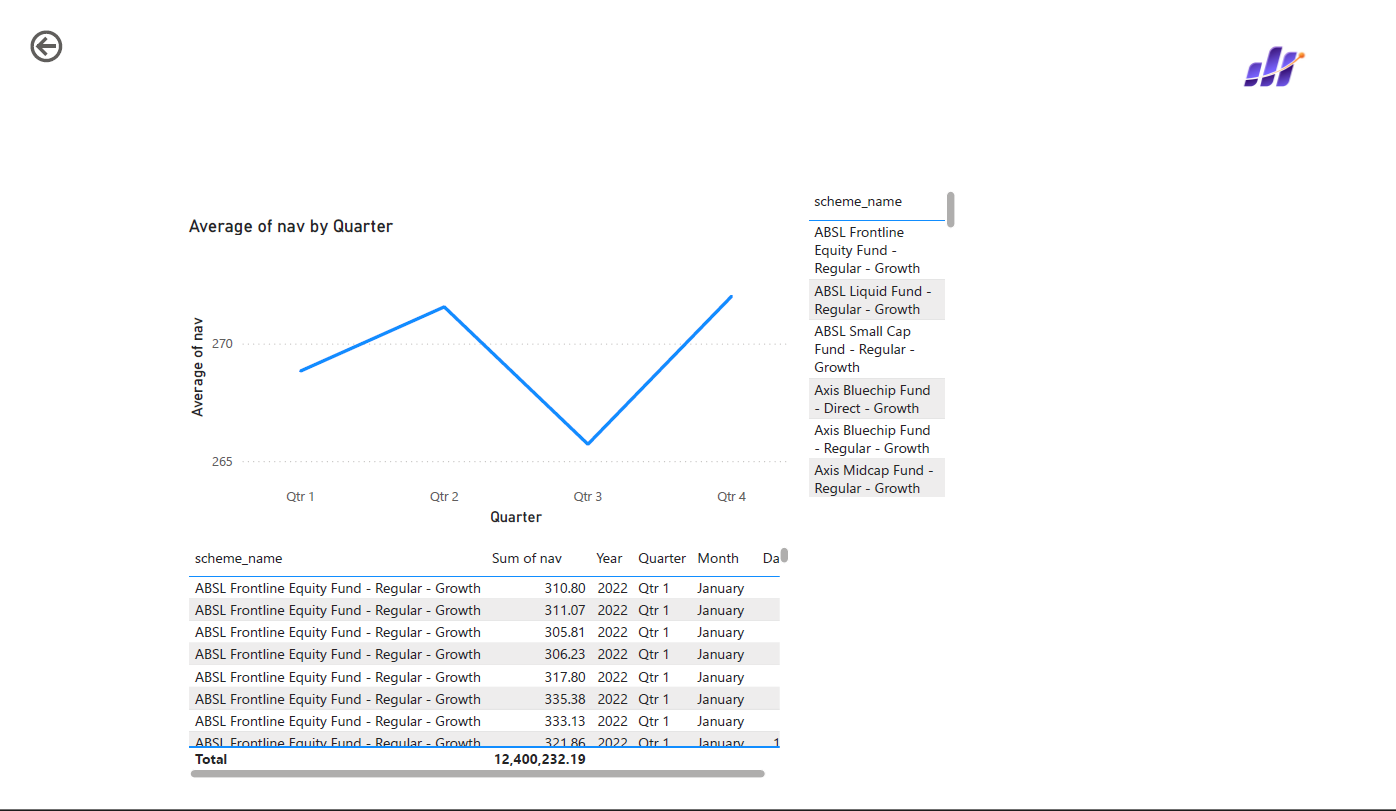

This screenshot's page, from the dashboard's own definition file:
{"tool":"powerbi","page":{"name":"Fund Detail","canvas":[1280,720],"ordinal":4},"visuals":[{"type":"actionButton","box":[0,0,100,40],"z":0},{"type":"lineChart","fields":{"Category":["nav_history_clean.date.Variation.Date Hierarchy.Year","nav_history_clean.date.Variation.Date Hierarchy.Quarter","nav_history_clean.date.Variation.Date Hierarchy.Month","nav_history_clean.date.Variation.Date Hierarchy.Day"],"Y":["Avg(nav_history_clean.nav)"]},"box":[150,180,580,300],"z":1000},{"type":"tableEx","fields":{"Values":["scheme_performance_clean.scheme_name","Sum(nav_history_clean.nav)","nav_history_clean.date.Variation.Date Hierarchy.Year","nav_history_clean.date.Variation.Date Hierarchy.Quarter","nav_history_clean.date.Variation.Date Hierarchy.Month","nav_history_clean.date.Variation.Date Hierarchy.Day"]},"box":[150,490,580,230],"z":2000},{"type":"tableEx","fields":{"Values":["fund_master_clean.scheme_name"]},"box":[738,152,150,300],"z":3000},{"type":"image","box":[1149,0,73,80],"z":3001}]}

Visuals, with their boxes on the page's 1280x720 design canvas (x1, y1, x2, y2). These are canvas units, not pixel positions in the 1396x811 screenshot, which may show the page scaled, cropped or inside an application window:
actionButton: l=0, t=0, r=100, b=40
lineChart - nav_history_clean.date.Variation.Date Hierarchy.Year x nav_history_clean.date.Variation.Date Hierarchy.Quarter: l=150, t=180, r=730, b=480
tableEx - scheme_performance_clean.scheme_name x Sum(nav_history_clean.nav): l=150, t=490, r=730, b=720
tableEx - fund_master_clean.scheme_name: l=738, t=152, r=888, b=452
image: l=1149, t=0, r=1222, b=80
